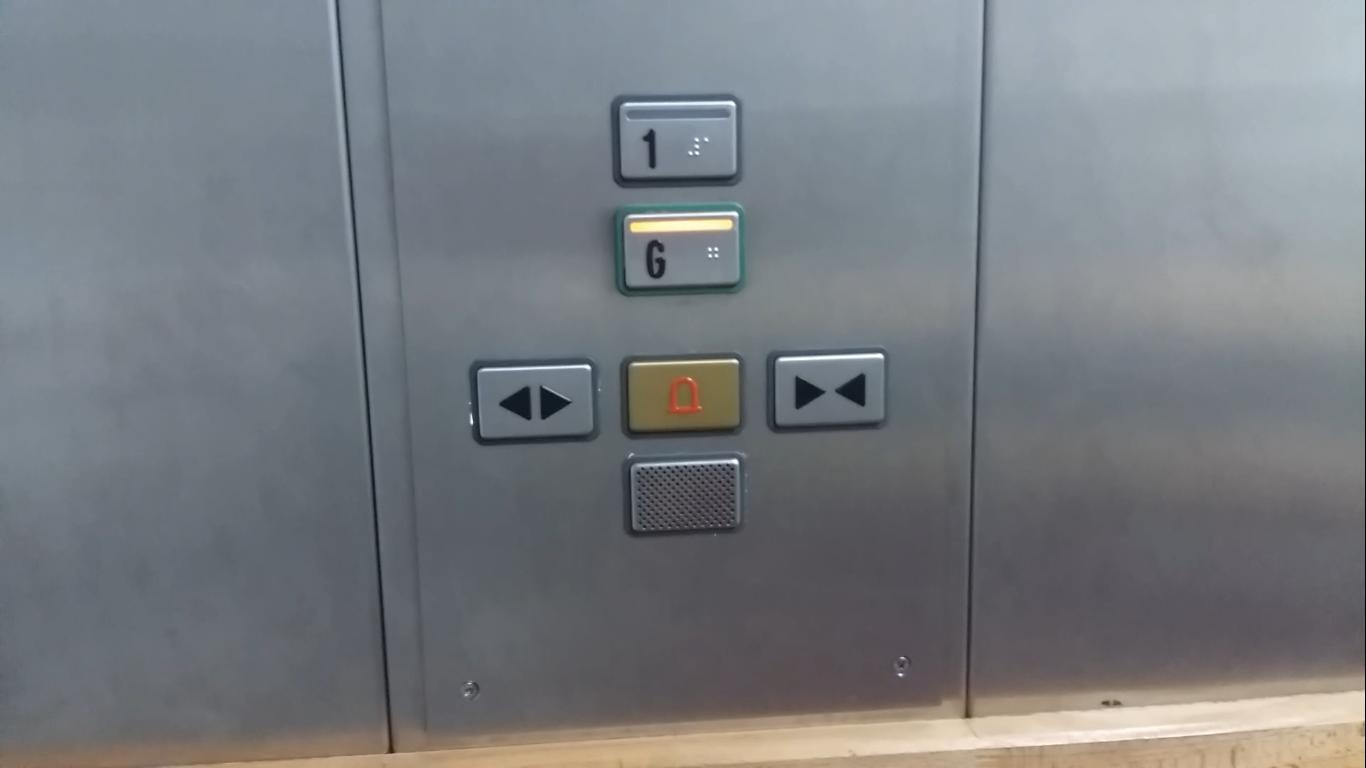1: (612, 94, 742, 184)
G: (616, 203, 744, 294)
alarm: (619, 349, 746, 439)
close: (766, 348, 889, 432)
open: (470, 358, 603, 446)
speaker: (625, 452, 749, 542)
